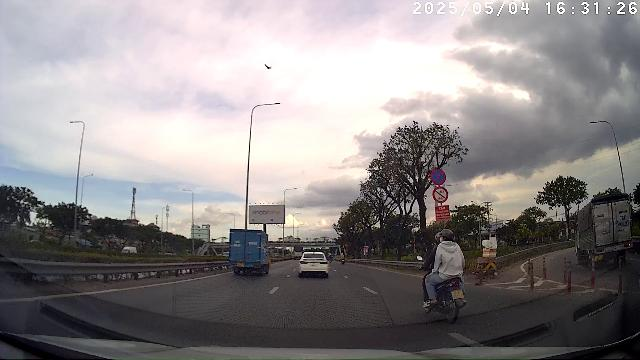130-cam-dung-va-do-xe: (430, 169, 446, 185)
